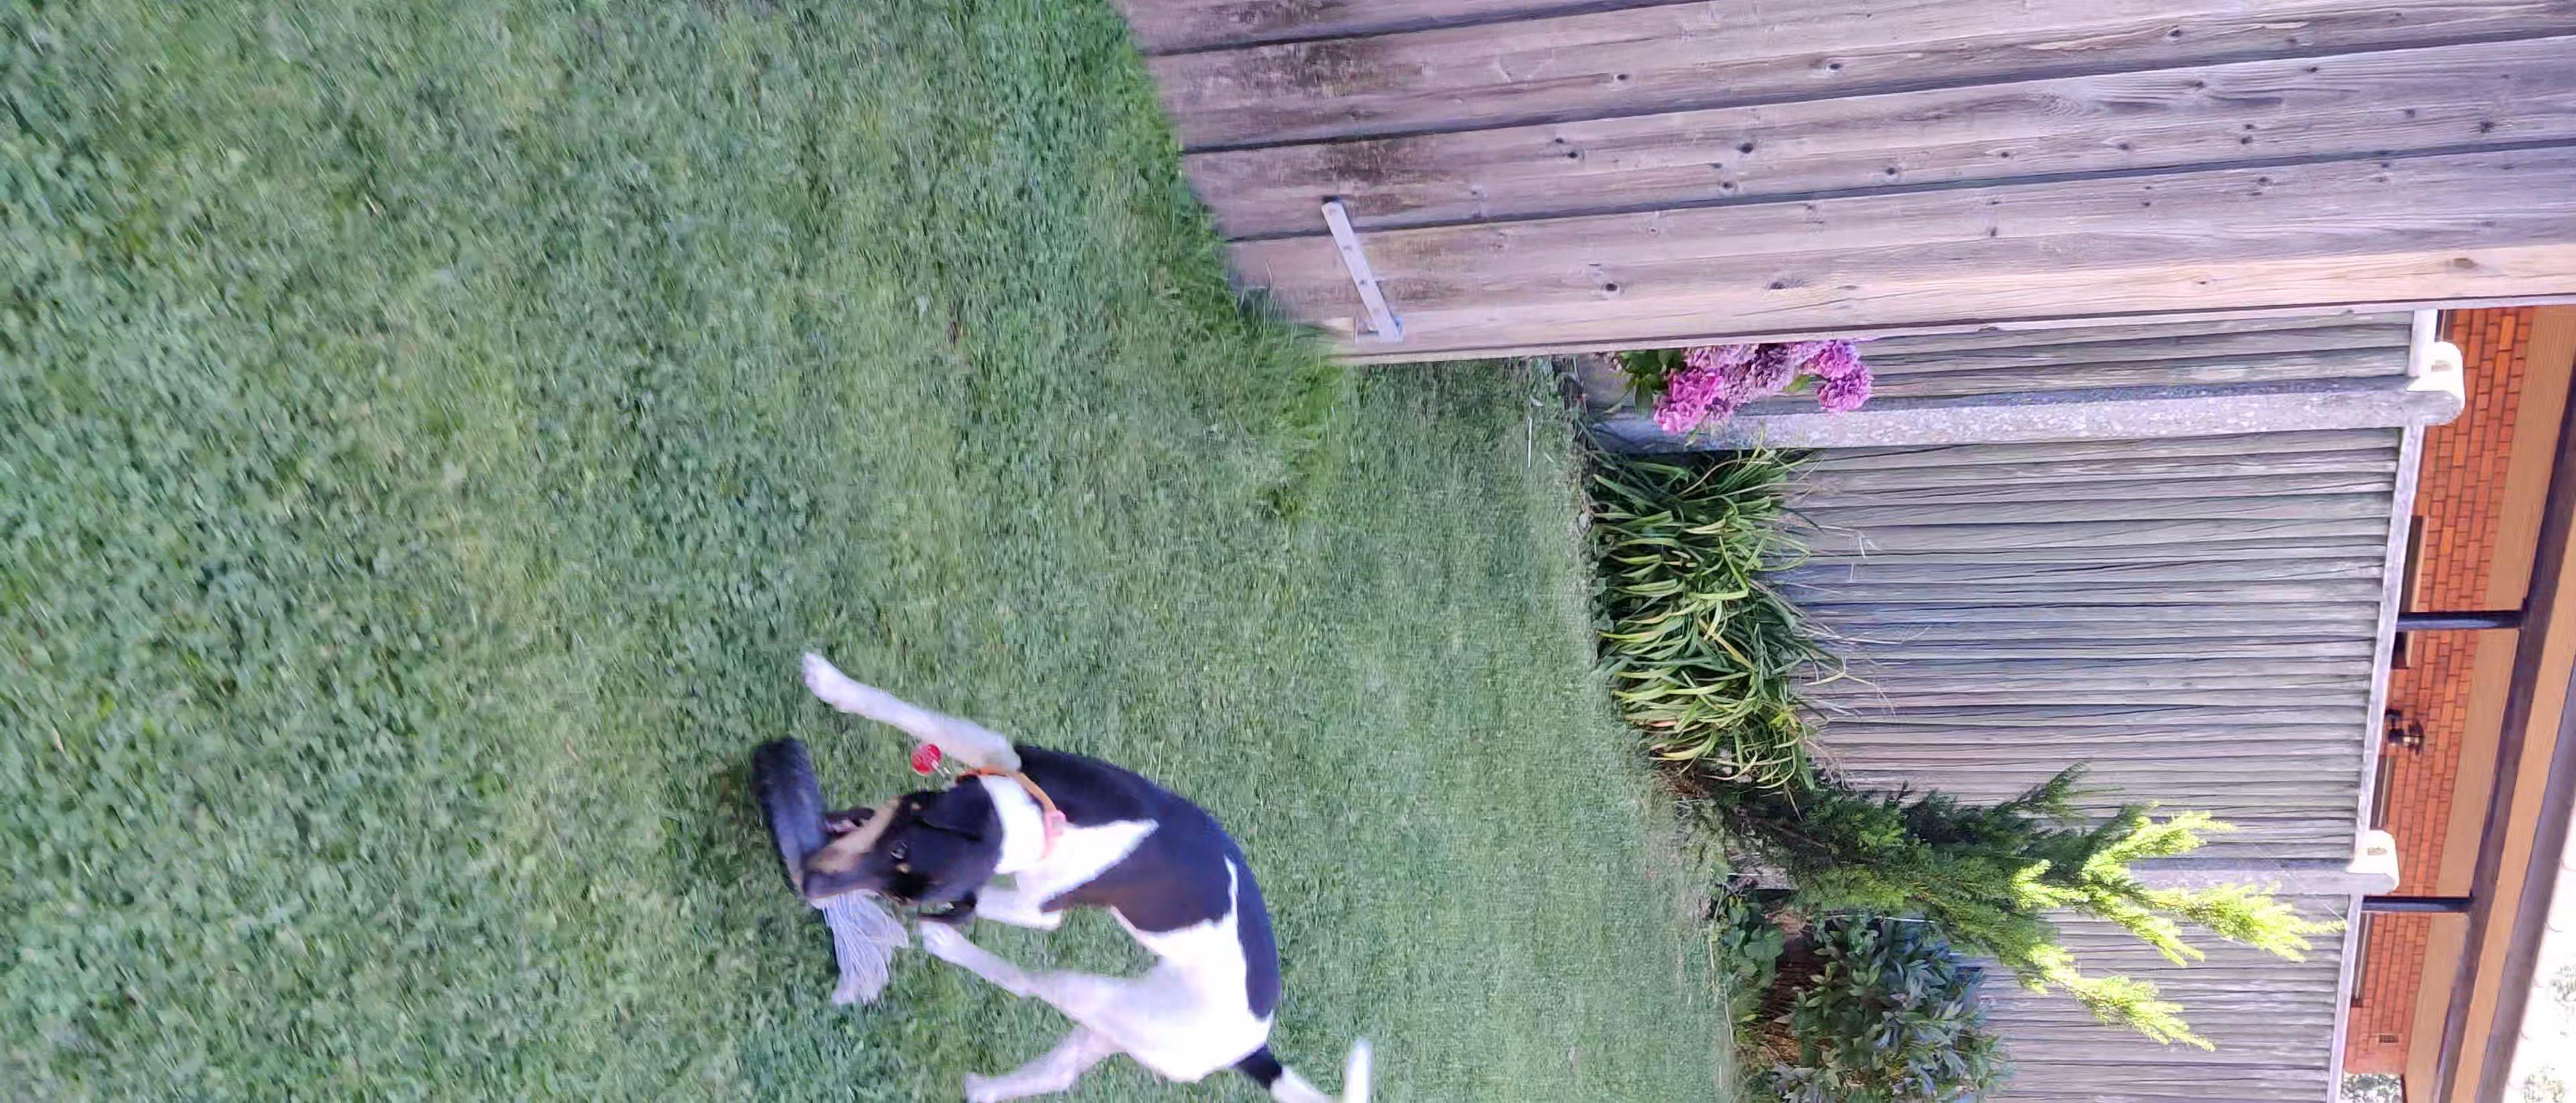Dog: (749, 633, 1419, 1103)
